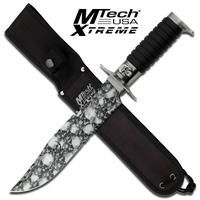knife: (8, 28, 194, 196)
